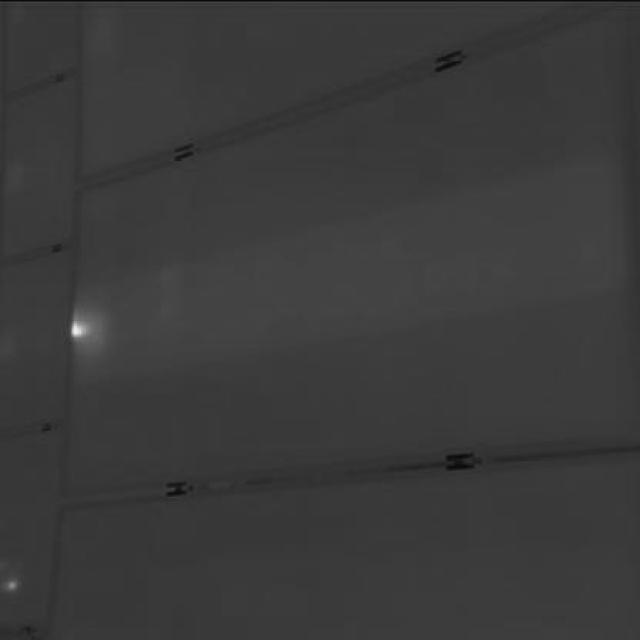hotspot: (68, 308, 88, 346)
